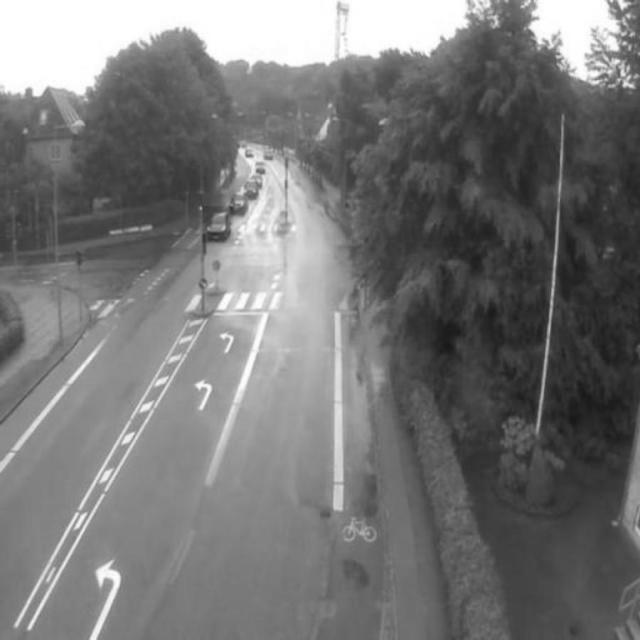vehicle: (203, 207, 233, 243)
